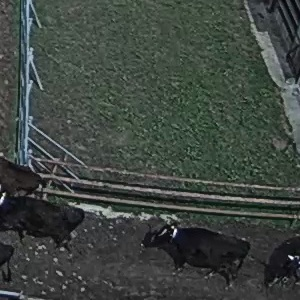cow: (134, 212, 254, 282), (1, 189, 90, 246)
